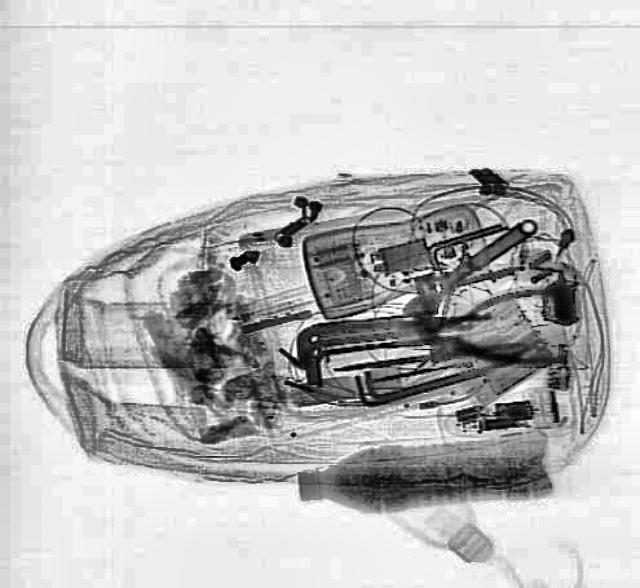Pliers: (408, 283, 566, 377)
Wrench: (386, 206, 546, 328)
